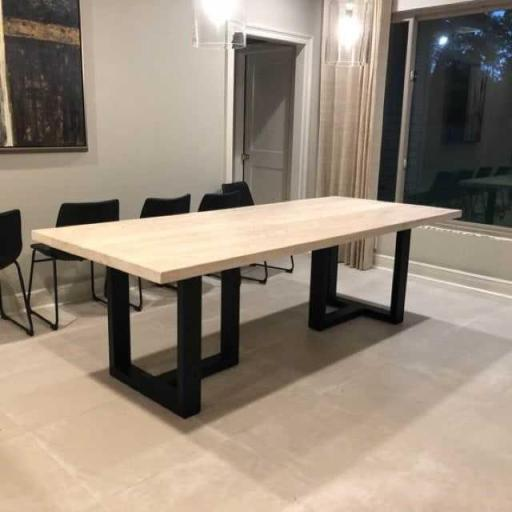table: (29, 189, 473, 425)
